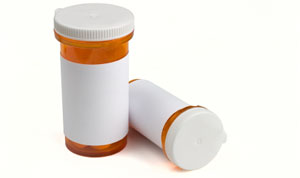pill bottle: (54, 2, 134, 159), (127, 78, 225, 171)
